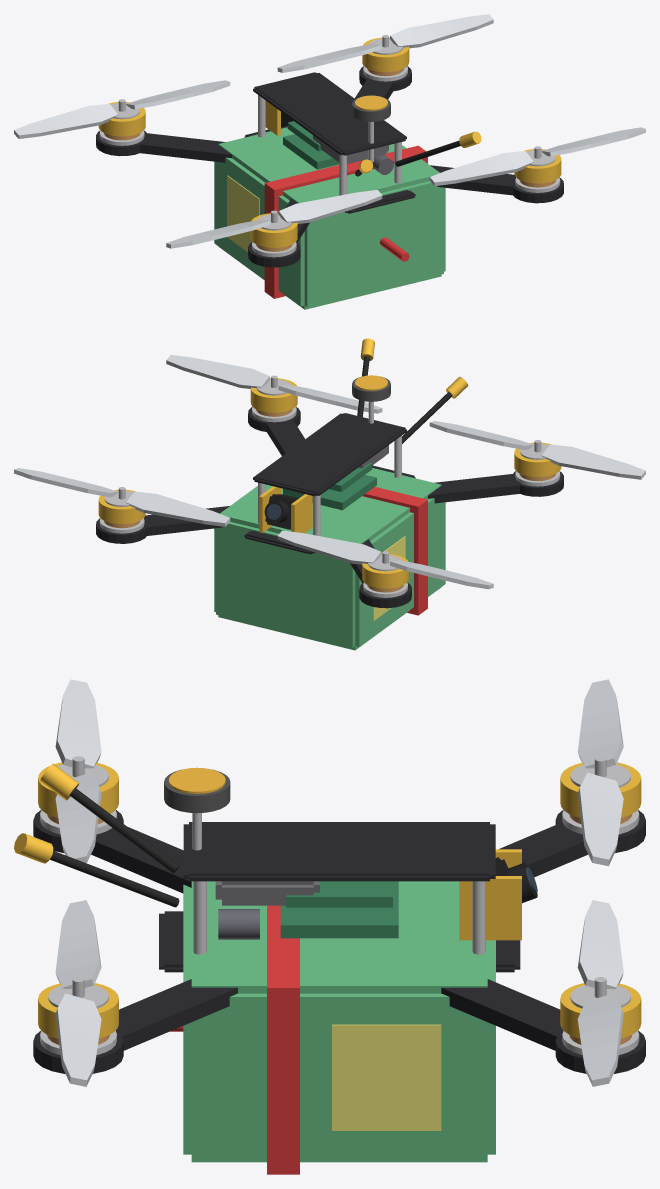
File: longrange6.glb
3 views of the same model, one above another, from view 1: azimuth 30°, elevation 25°; view 2: azimuth 150°, elevation 25°; view 3: azimuth 270°, elevation 25° (orthographic). The views are drawn at different scales.
Visible parts, largest first — view 1: body, prop_FL, prop_RR, prop_RL, prop_FR, cam_mount; view 2: body, prop_FL, prop_FR, prop_RL, prop_RR, cam_mount, fpv_cam; view 3: body, prop_FL, prop_FR, prop_RR, prop_RL, cam_mount, fpv_cam.
Boxes of the visible parts, x1,y1,x2,y2 form: body: (96,35,563,309); prop_FL: (14,80,230,138); prop_RR: (429,127,645,186); prop_RL: (166,190,382,248); prop_FR: (277,14,493,72); cam_mount: (265,100,280,135); body: (96,338,563,650); prop_FL: (277,530,493,589); prop_FR: (14,468,230,526); prop_RL: (429,421,645,479); prop_RR: (166,355,382,413); cam_mount: (259,486,312,533); fpv_cam: (264,494,298,529); body: (14,756,645,1174); prop_FL: (577,679,623,866); prop_FR: (577,900,623,1086); prop_RR: (55,900,101,1086); prop_RL: (55,679,101,862); cam_mount: (459,849,521,940); fpv_cam: (495,857,537,903).
Size of the model in its own units: 0.3424 by 0.1327 by 0.2299.
